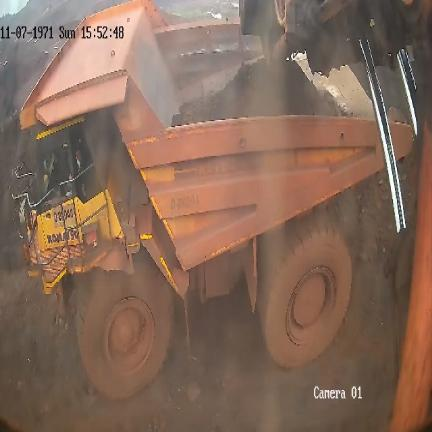pile: (171, 58, 344, 128), (330, 167, 401, 252)
